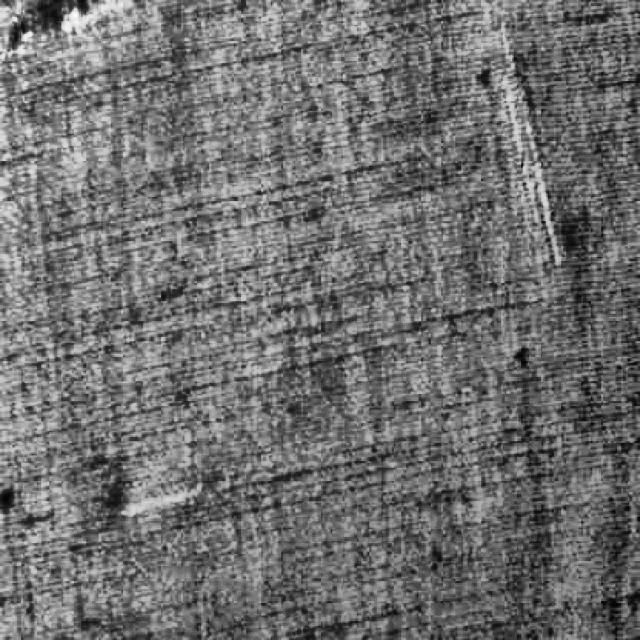thread_error: (488, 18, 580, 277), (0, 0, 131, 58), (96, 471, 212, 529)
